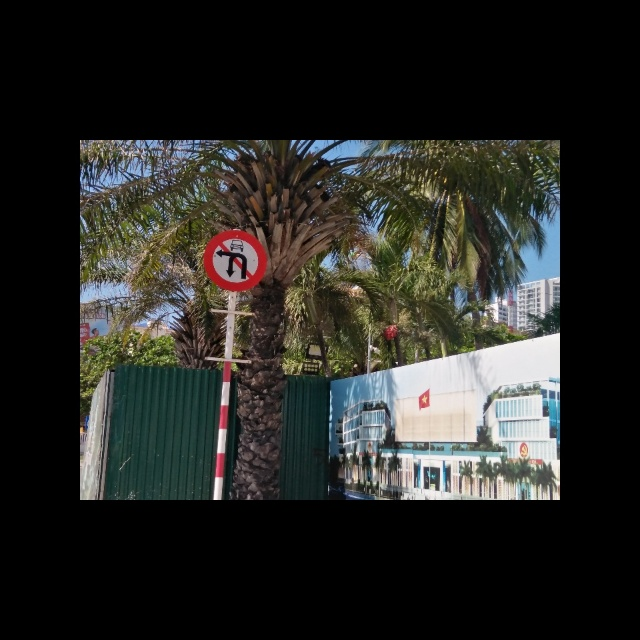Cấm xe ô tô quay đầu và rẽ trái: (202, 228, 272, 291)
